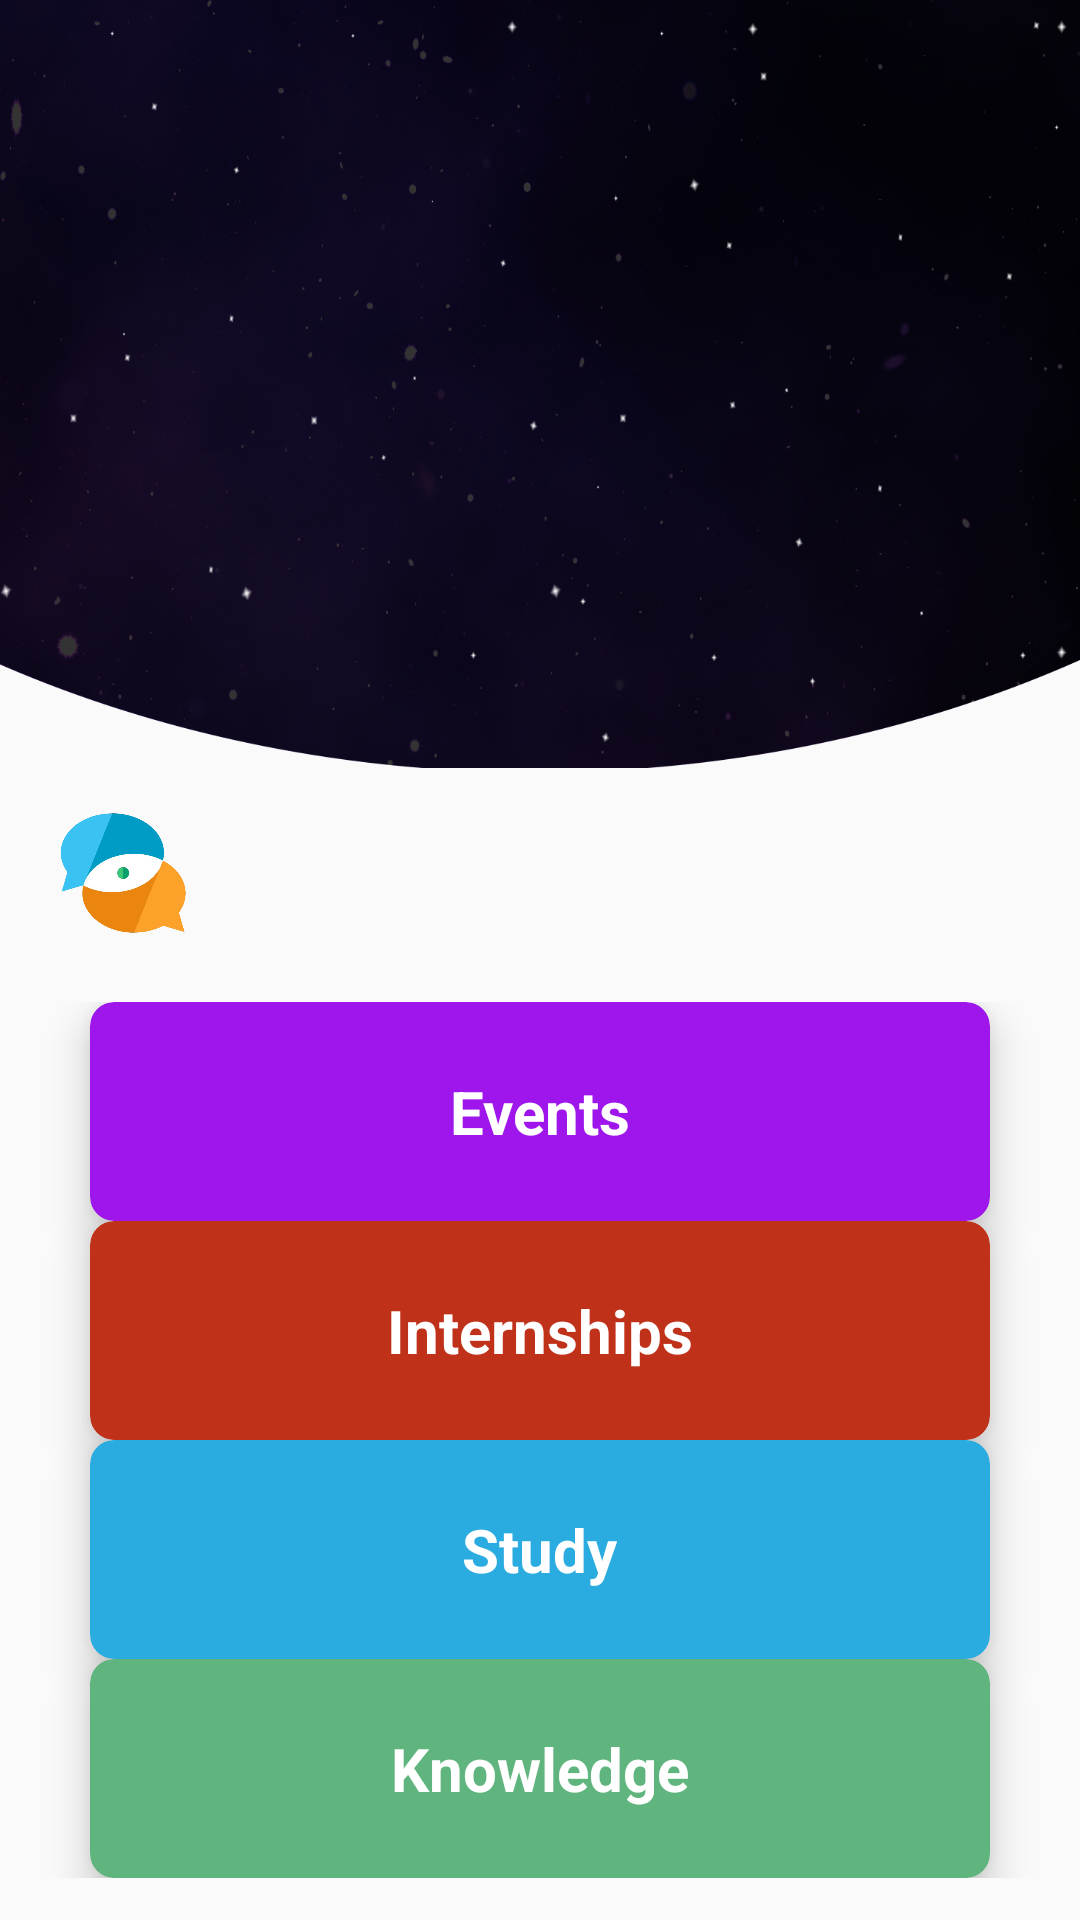

Point at icon controls on the screen. Image size 1080×1920, points as point (x, y).
chat: point (123, 873)
